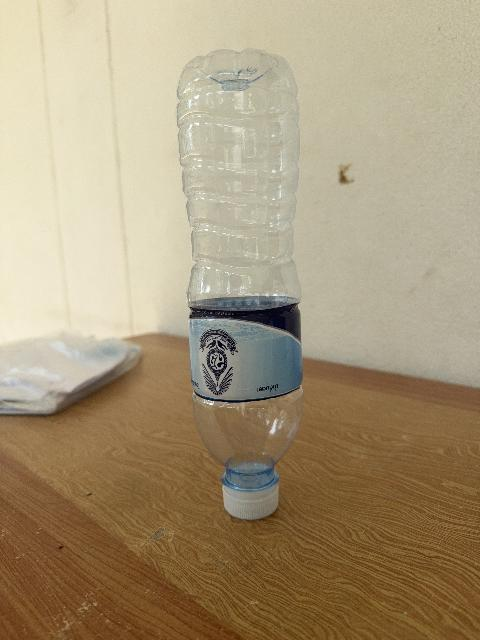bottle: (178, 50, 302, 519)
